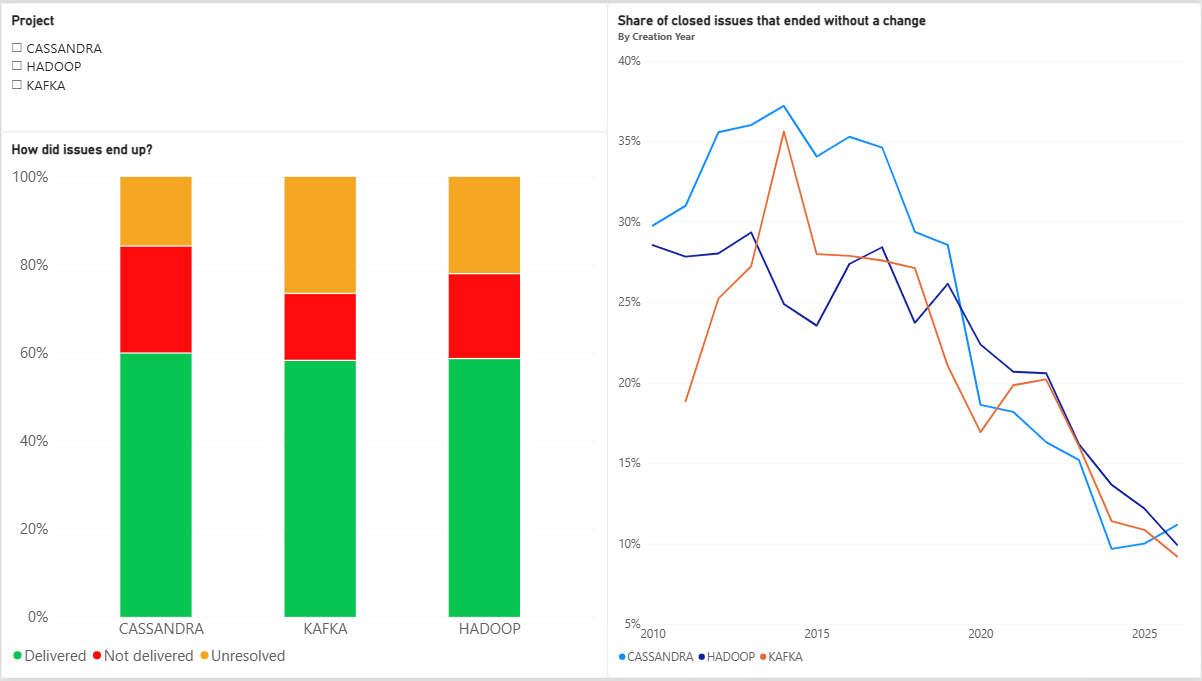

The dashboard page shown, as its layout file describes it:
{"tool":"powerbi","page":{"name":"Outcomes","canvas":[1920,1080],"ordinal":3},"visuals":[{"type":"lineChart","title":"Share of closed issues that ended without a change","fields":{"Category":["dim_date.Year"],"Series":["dim_project.project"],"Y":["fact_issues.Not Delivered %"]},"box":[970,0,950,1080],"z":0},{"type":"listSlicer","title":"Project","fields":{"Values":["dim_project.project"]},"box":[0,0,970,206],"z":1000},{"type":"hundredPercentStackedColumnChart","title":"How did issues end up?","fields":{"Category":["dim_project.project"],"Series":["fact_issues.outcome_group"],"Y":["fact_issues.Total Issues"]},"box":[0,206,970,874],"z":2000}]}

Visuals, with their boxes in screenshot pixels (x1, y1, x2, y2), scaled from the page's 1920x1080 canvas onto the 1202x681 screenshot:
"Share of closed issues that ended without a change" lineChart: bbox(607, 0, 1201, 680)
"Project" listSlicer: bbox(0, 0, 607, 130)
"How did issues end up?" hundredPercentStackedColumnChart: bbox(0, 130, 607, 680)
